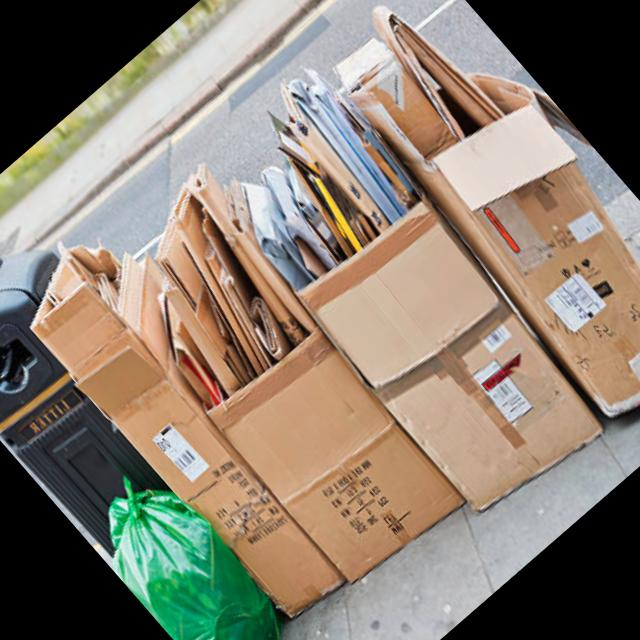Kardus: (0, 0, 640, 640), (180, 59, 612, 520), (9, 211, 392, 624), (305, 0, 640, 440)
